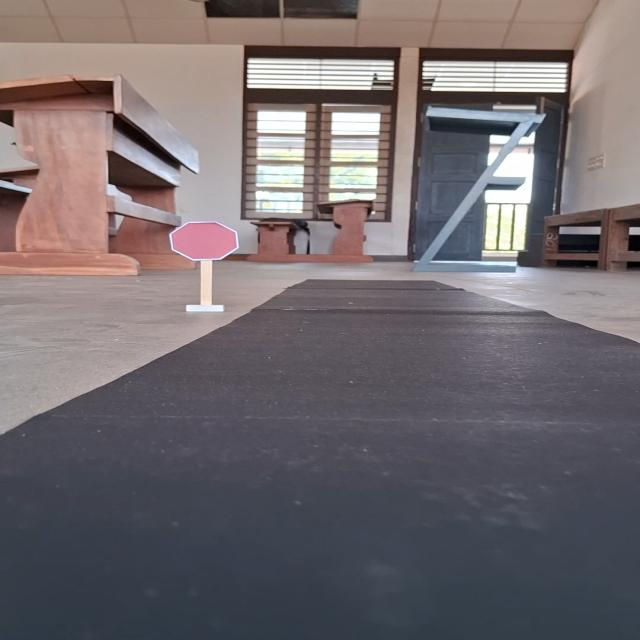Stop: (168, 219, 240, 260)
